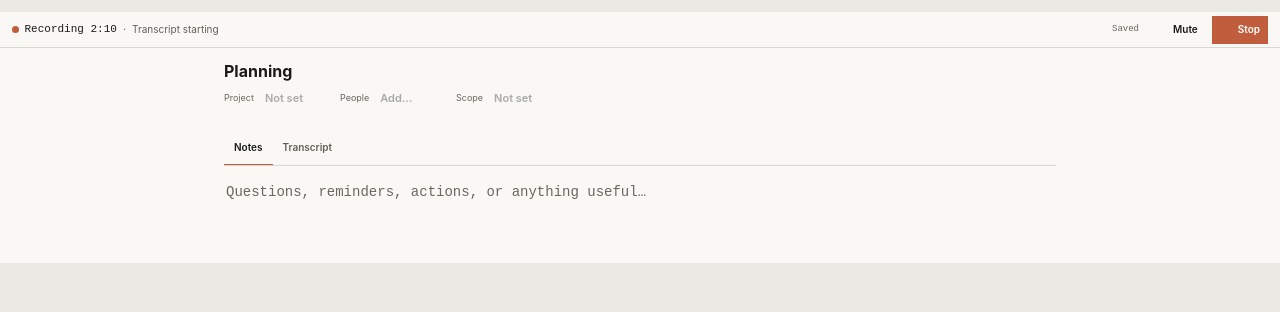
ScribeApp › restores the recorder when the immediate native Stop signal fails
The image size is (1280, 312).
Click the button "Stop": (1240, 30) x1=1212 y1=16 x2=1268 y2=44
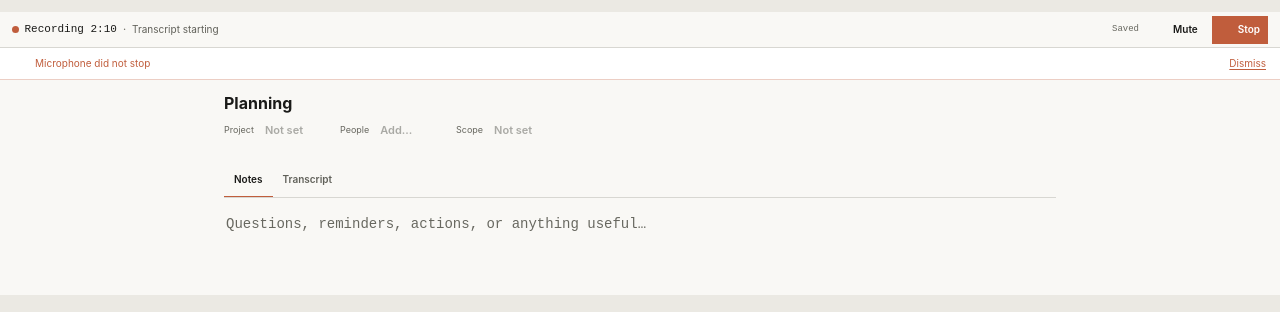
Result: the message "Microphone did not stop Dismiss" is shown at x1=0 y1=48 x2=1279 y2=80
